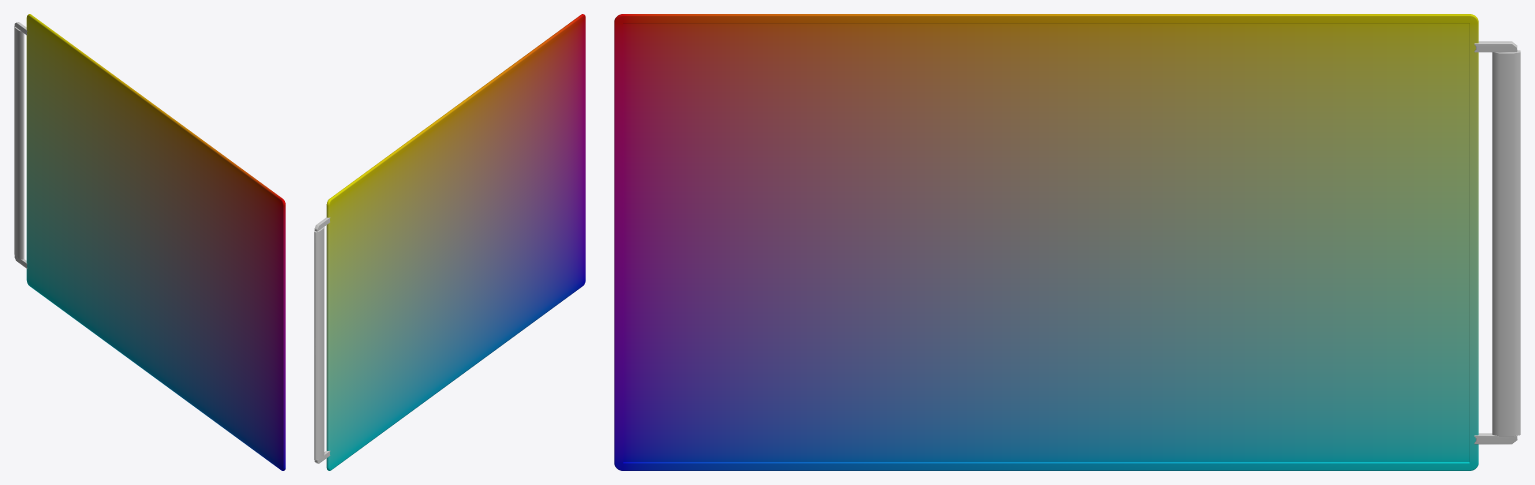
The model's file is SM_1080_Window.FBX.
The picture shows the model from 3 angles, left to right: view 1: azimuth 30°, elevation 25°; view 2: azimuth 150°, elevation 25°; view 3: azimuth 270°, elevation 25°; orthographic projection. The views are drawn at different scales.
Visible parts, largest first — view 1: SM_ContentWindow_02; view 2: SM_ContentWindow_02; view 3: SM_ContentWindow_02.
Part boxes in pixels (box(x1,y1,x2,y2)): SM_ContentWindow_02: box(14, 14, 285, 470); SM_ContentWindow_02: box(314, 14, 585, 470); SM_ContentWindow_02: box(614, 14, 1520, 470).
Bounding box in the file's own units: 2.09 × 201 × 111.
